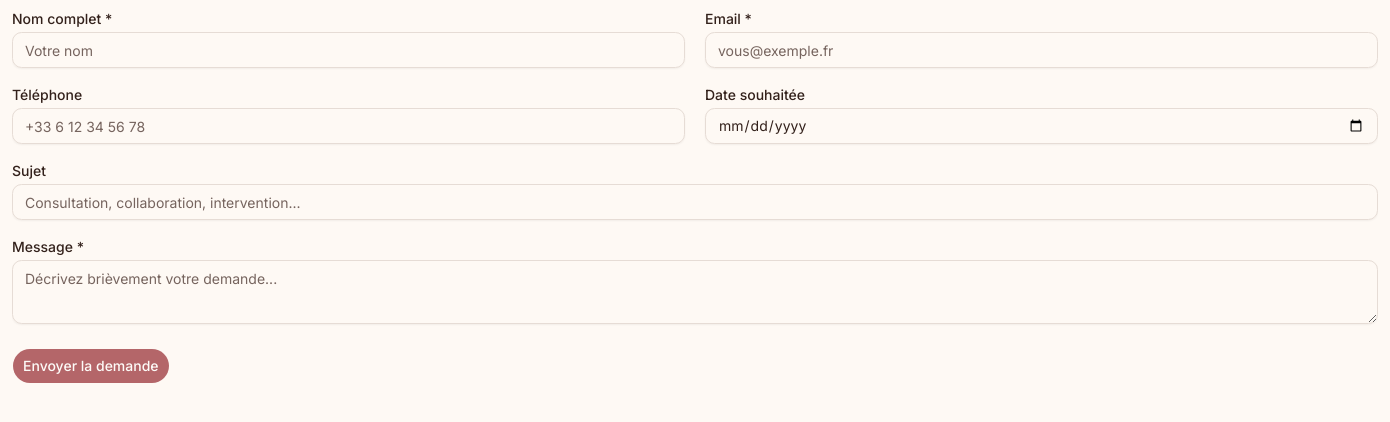
Test: RdvForm › shows field errors returned by the action
Type "Alice" into the field labelled "Nom complet *" at (348, 50), box x1=12 y1=32 x2=685 y2=68
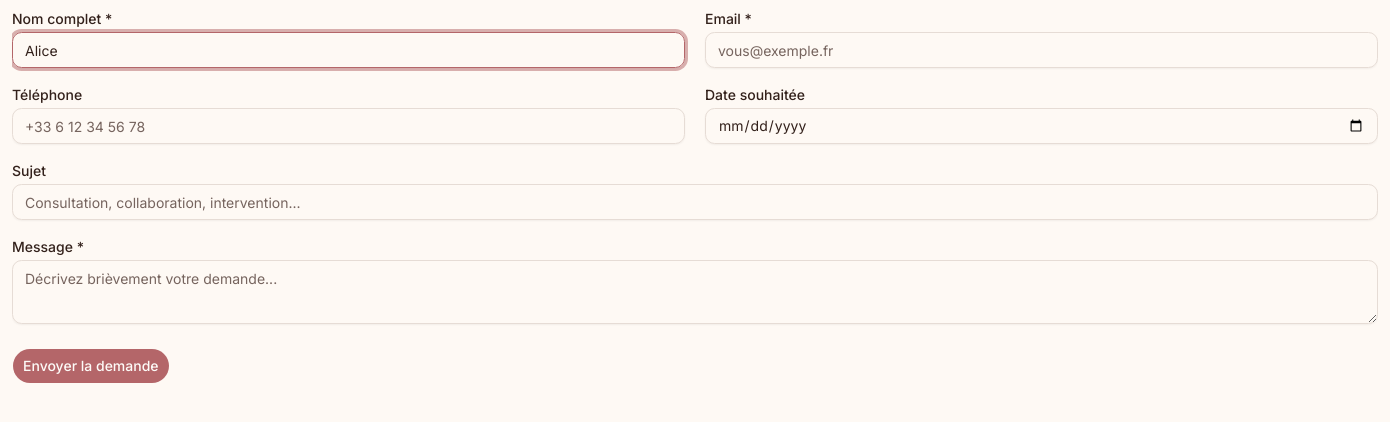
Type "alice@exemple.fr" into the field labelled "Email *" at (1042, 50), box x1=705 y1=32 x2=1378 y2=68
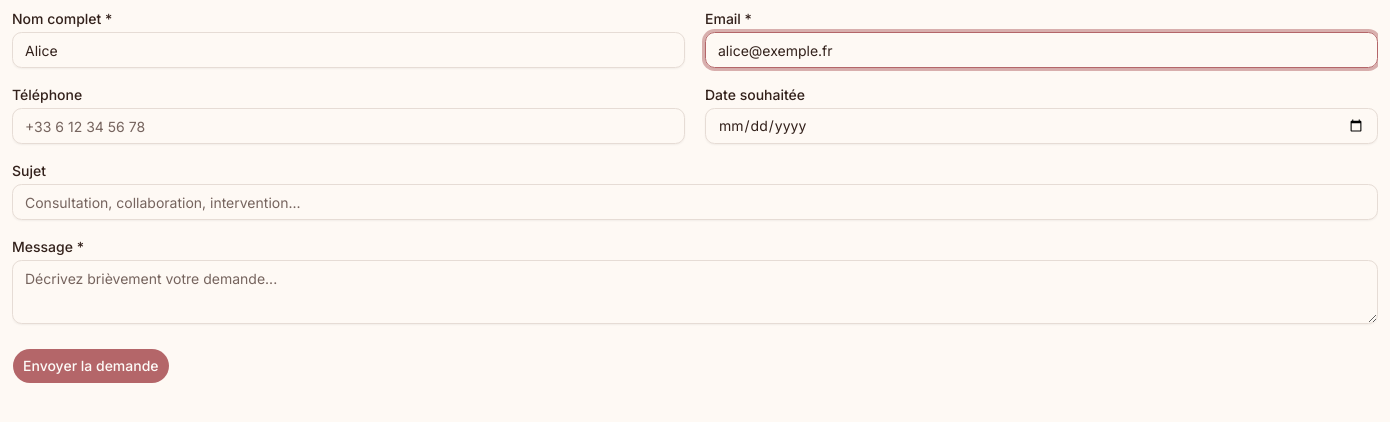
Type "Bonjour" into the text box labelled "Message *" at (695, 292), box x1=12 y1=260 x2=1378 y2=324
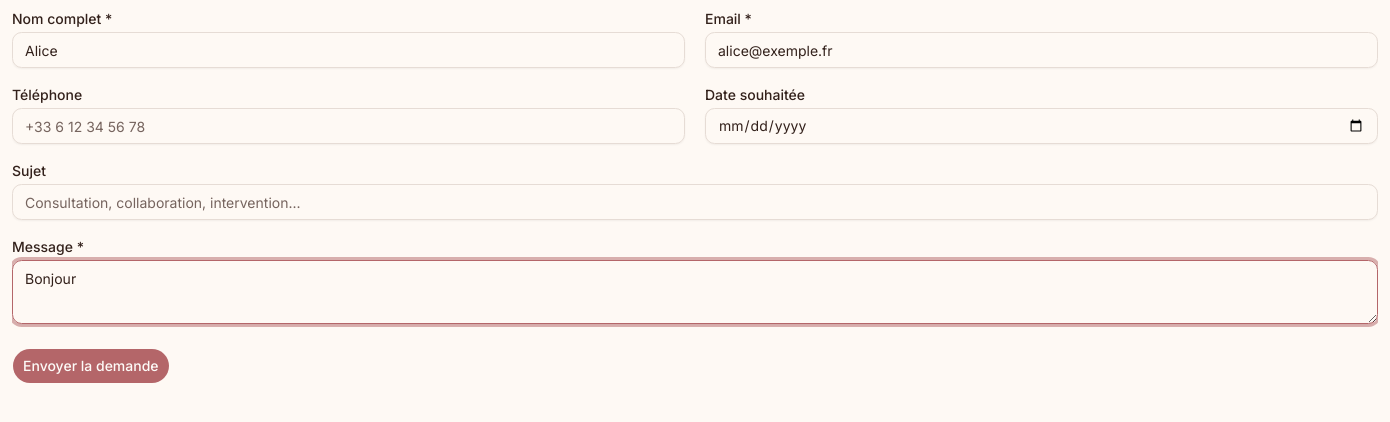
Click the button "Envoyer la demande" at (91, 366), box x1=12 y1=348 x2=170 y2=384
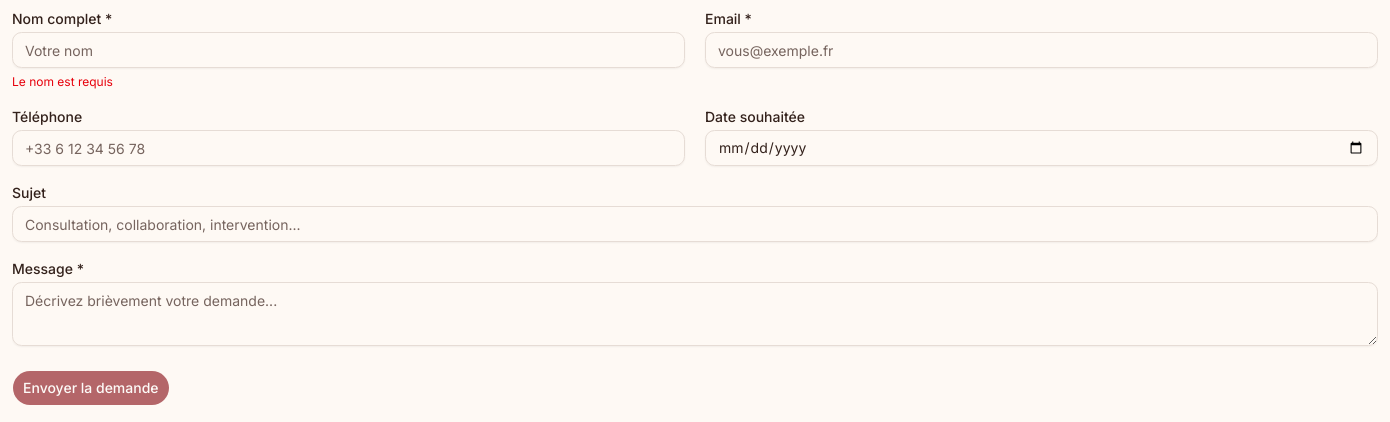
Result: the text "Le nom est requis" is shown at x1=12 y1=74 x2=113 y2=89
